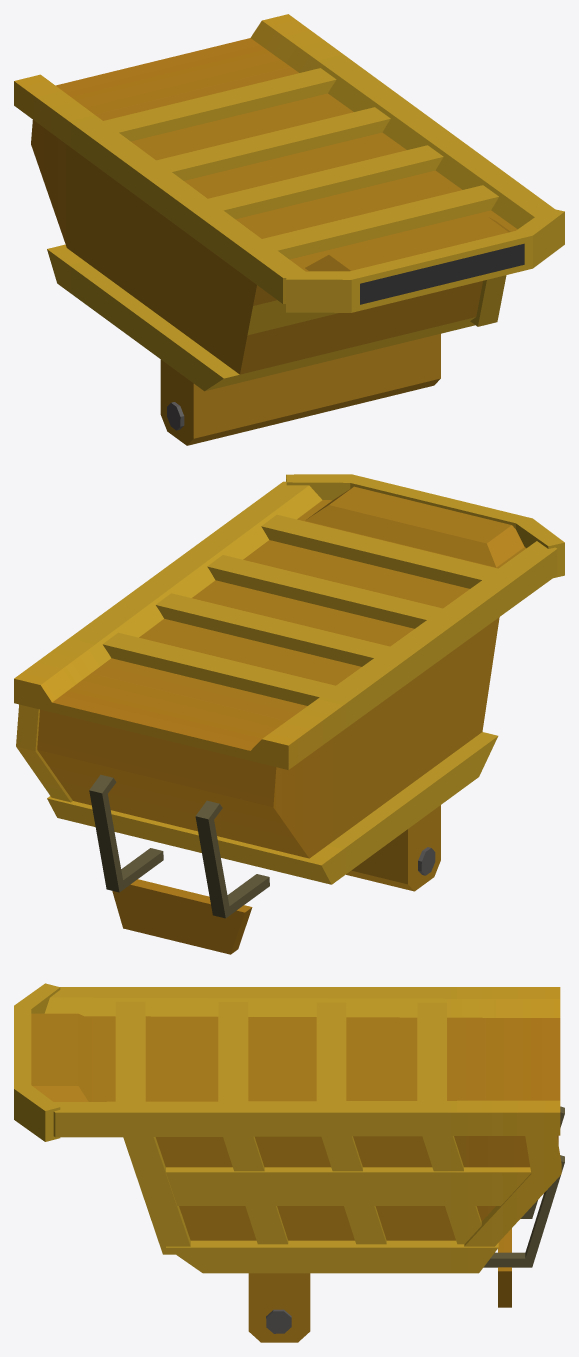
File: cargo_SP5_1.fbx
The picture shows the model from 3 angles, top to bottom: view 1: azimuth 30°, elevation 25°; view 2: azimuth 150°, elevation 25°; view 3: azimuth 270°, elevation 25°; orthographic projection. The views are drawn at different scales.
Visible parts, largest first — view 1: cargo_SP5_1; view 2: cargo_SP5_1; view 3: cargo_SP5_1.
Boxes of the visible parts, x1,y1,x2,y2 form: cargo_SP5_1: (14, 14, 564, 445); cargo_SP5_1: (14, 474, 564, 954); cargo_SP5_1: (14, 983, 564, 1342).
Size of the model in its own units: 1827 by 1592 by 3330.
